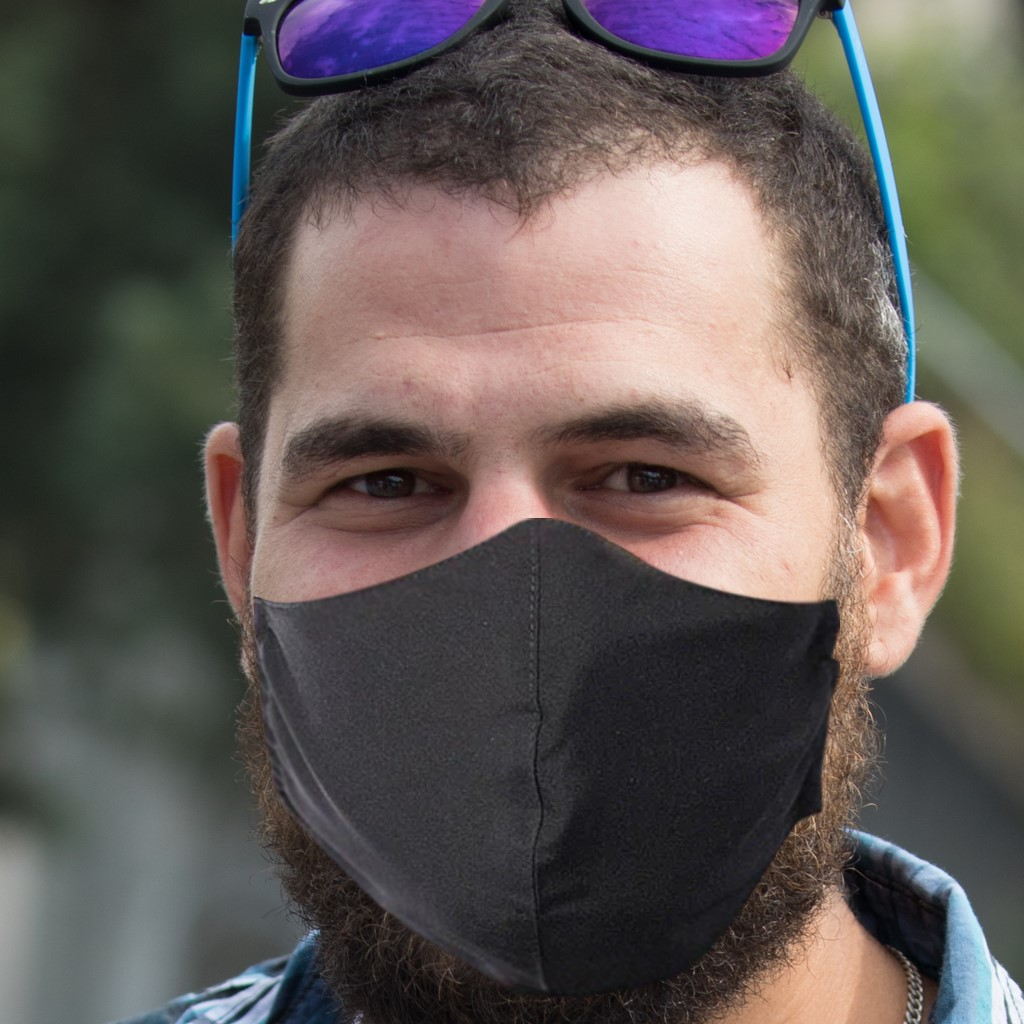con_mascara: (239, 99, 888, 982)
